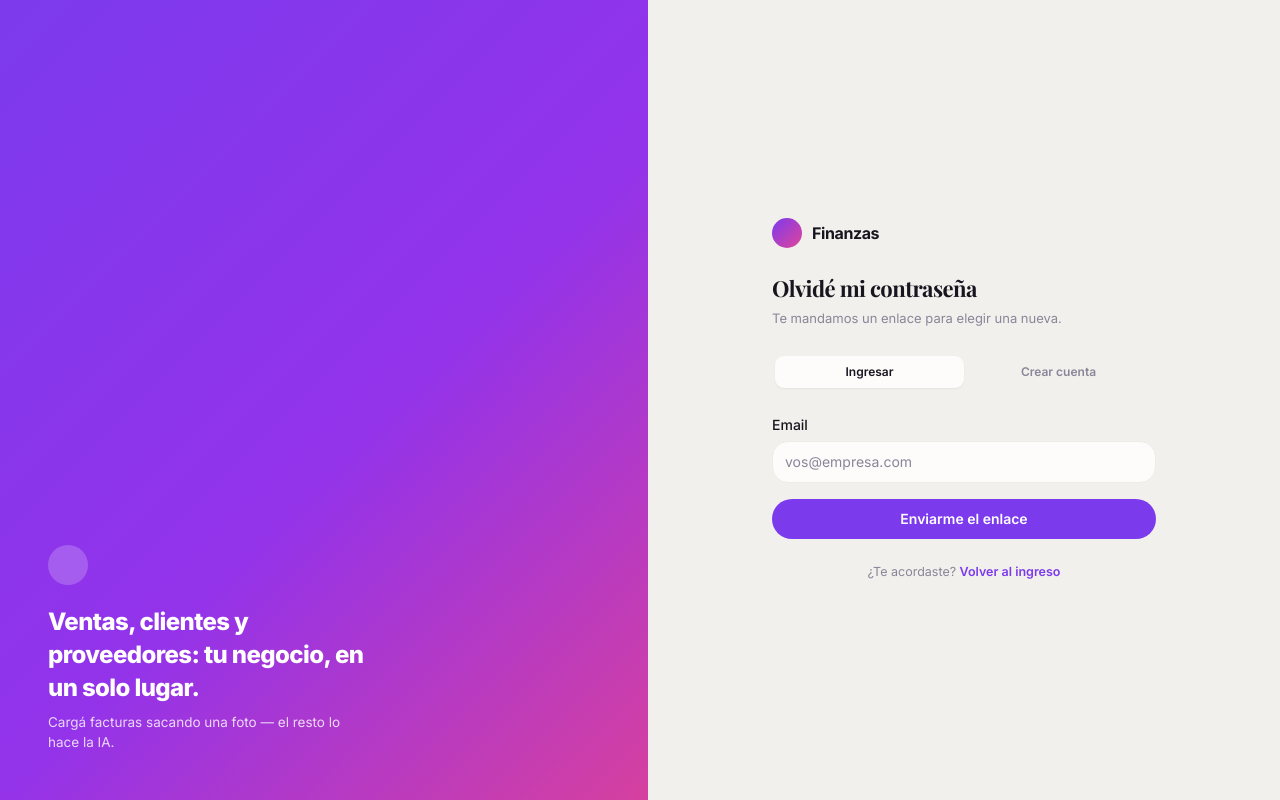
Test: RecuperarPage — no delata quién tiene cuenta › la confirmación no afirma que el correo salió
Type "alguien@test.com" into the field labelled "Email". click: (964, 462)
box: [772,441,1156,483]
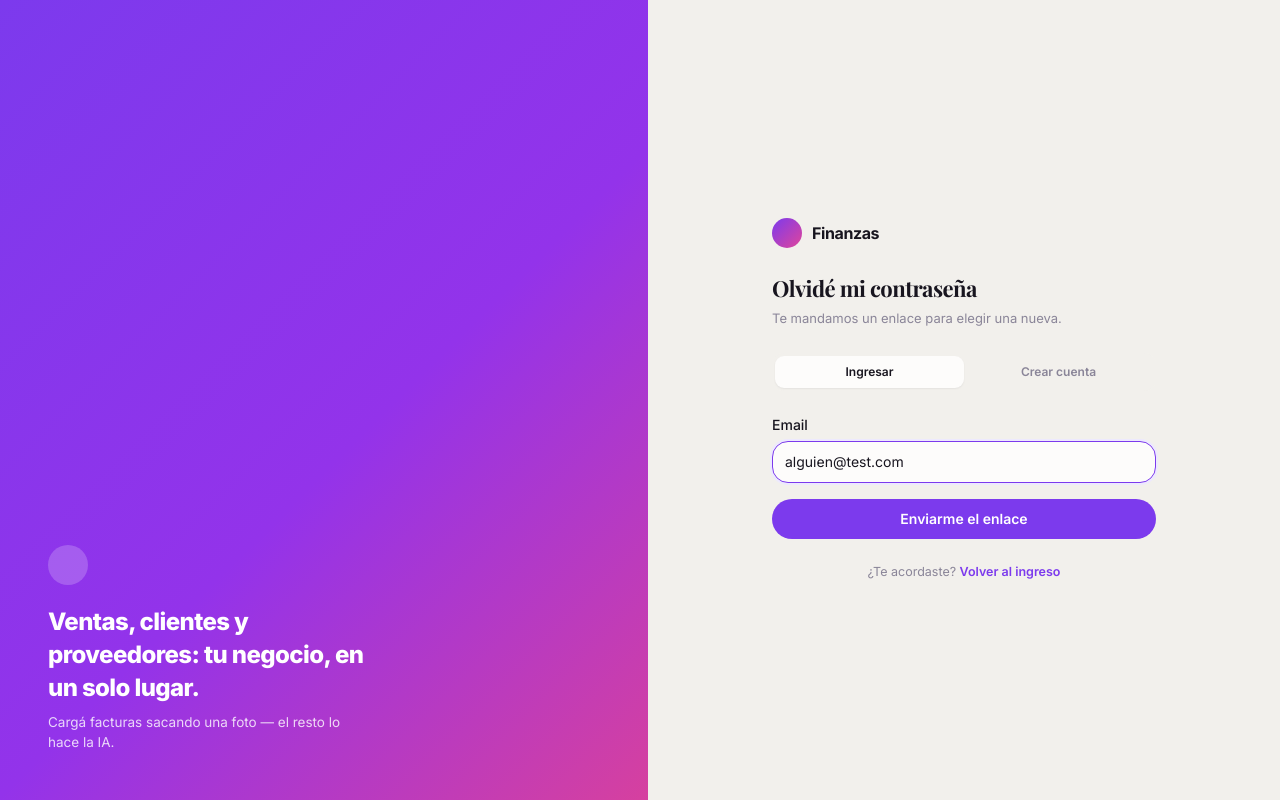
Click the button "Enviarme el enlace". click: click(964, 519)
box: [772,499,1156,539]
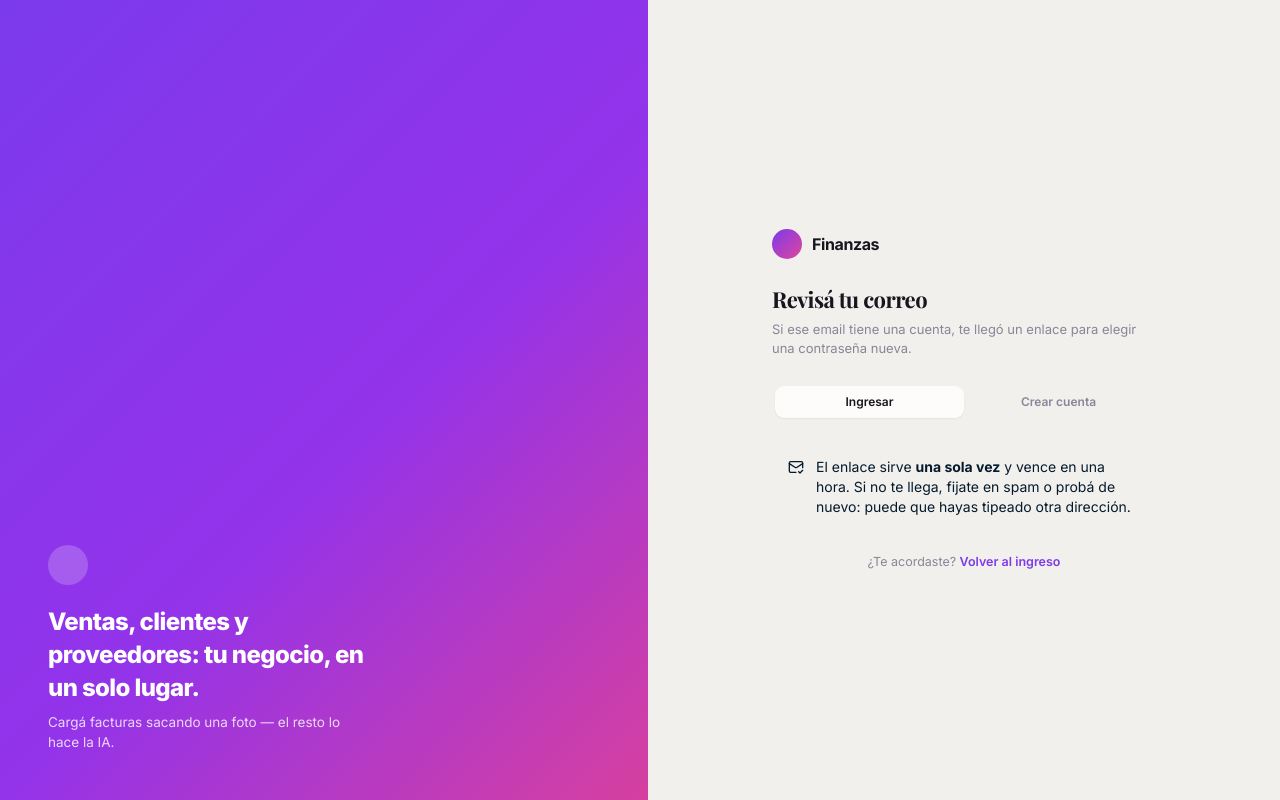
Expected: the text "Si ese email tiene una cuenta" is shown, [772,321,1136,356]
